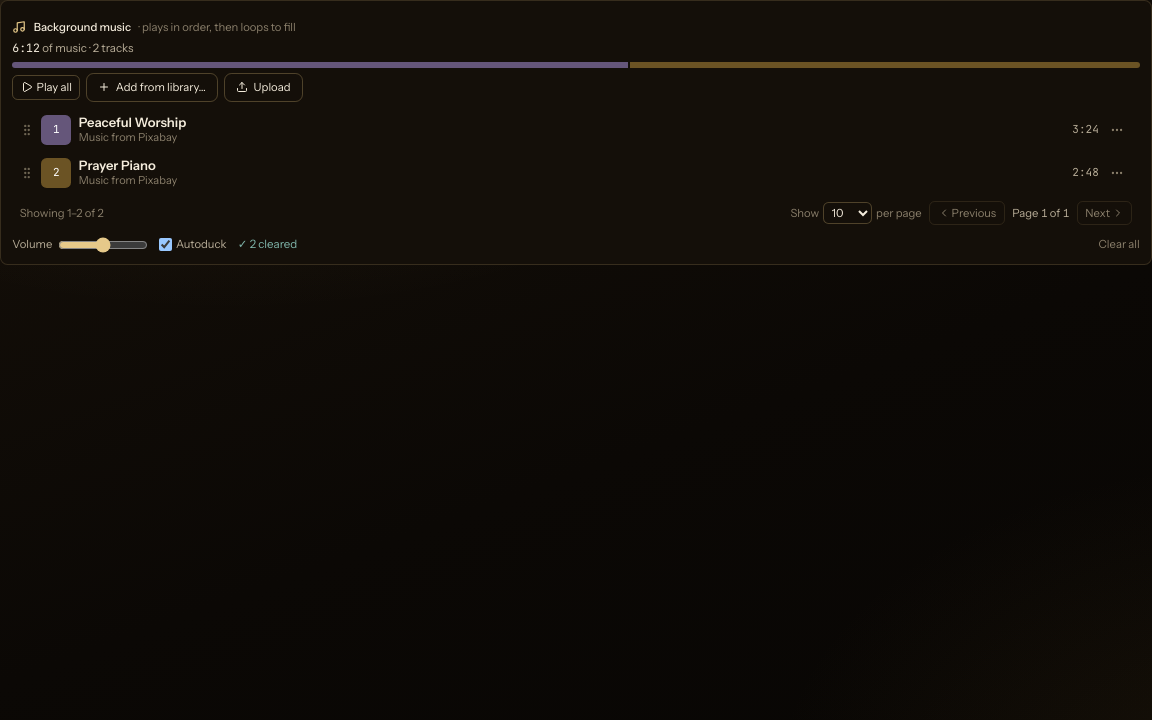
Scenario: music list — keyboard › the row menu takes focus, moves with the arrows, and Escape returns to its button
Click the button named "more for prayer piano" at (1117, 173), box [1106,162,1128,183]
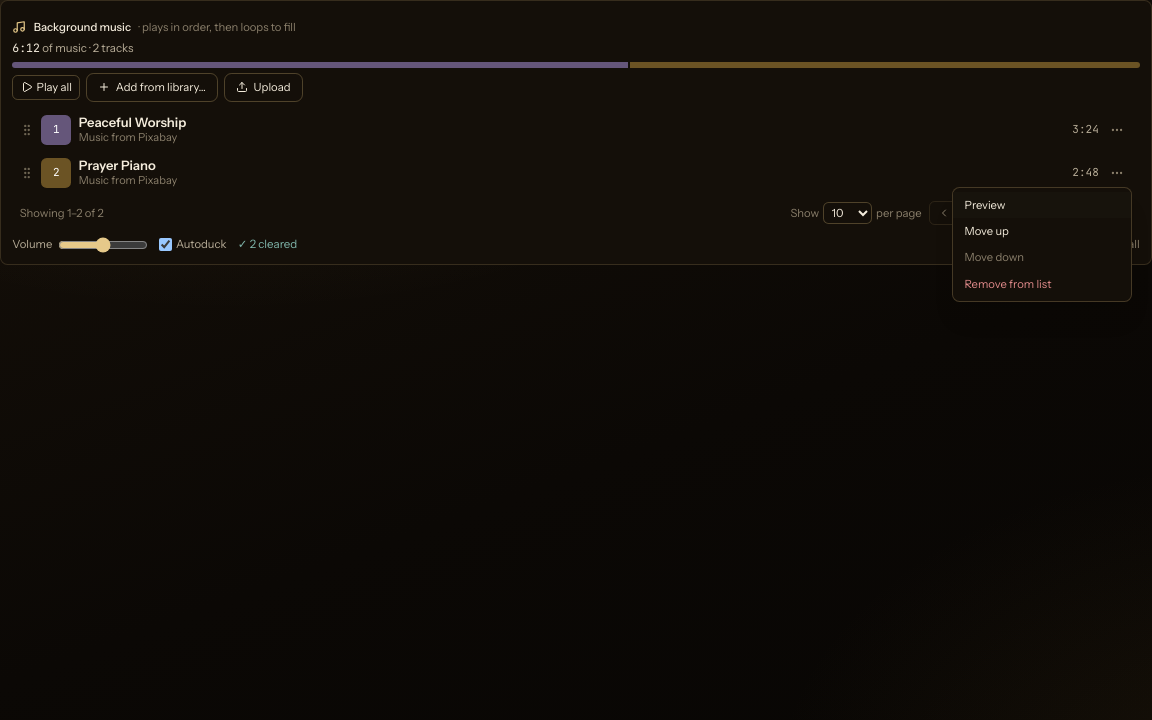
Press Arrowdown
Press Arrowup Arrowup
Press Escape
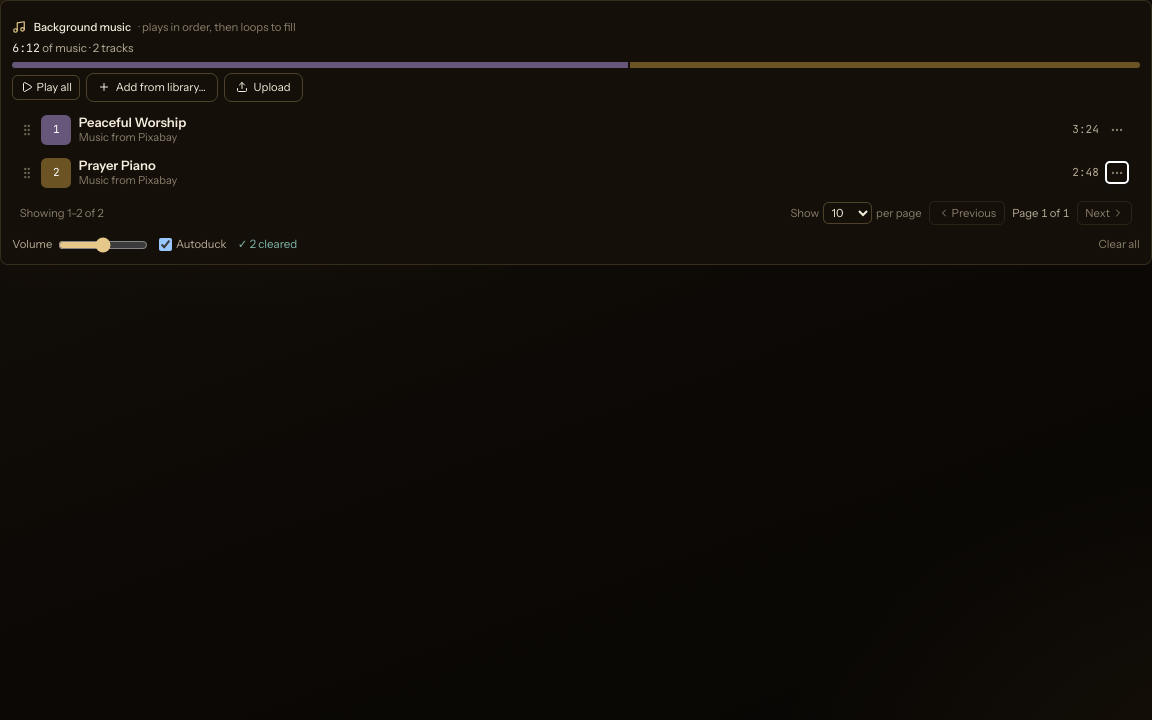
Expected: the menu is gone
